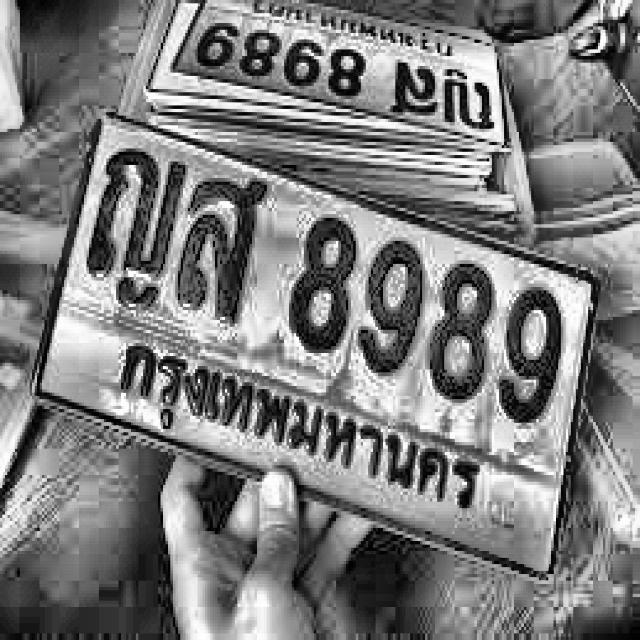license-plate: (30, 106, 608, 584)
